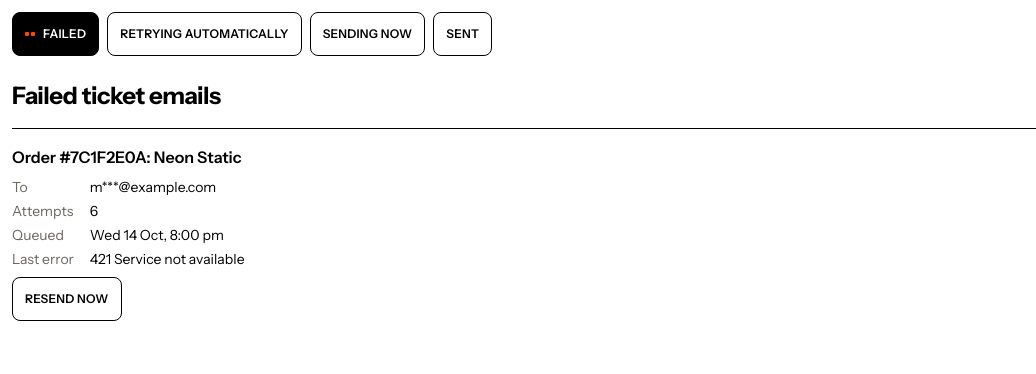
Test: EmailOutbox › shows why a resend was refused
The width and height of the screenshot is (1036, 374).
Click the button "Resend now" at coordinates (67, 299), box [12,277,122,321]
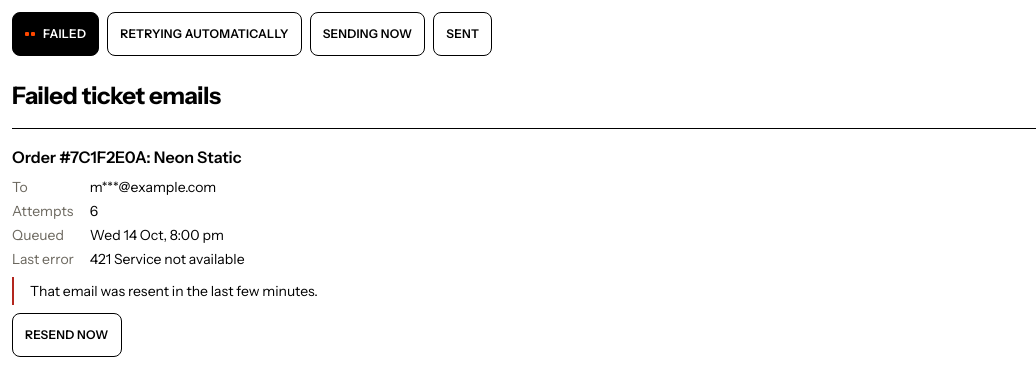
expect the message reads "That email was resent in the last few minutes.": met, box [30,282,318,300]
